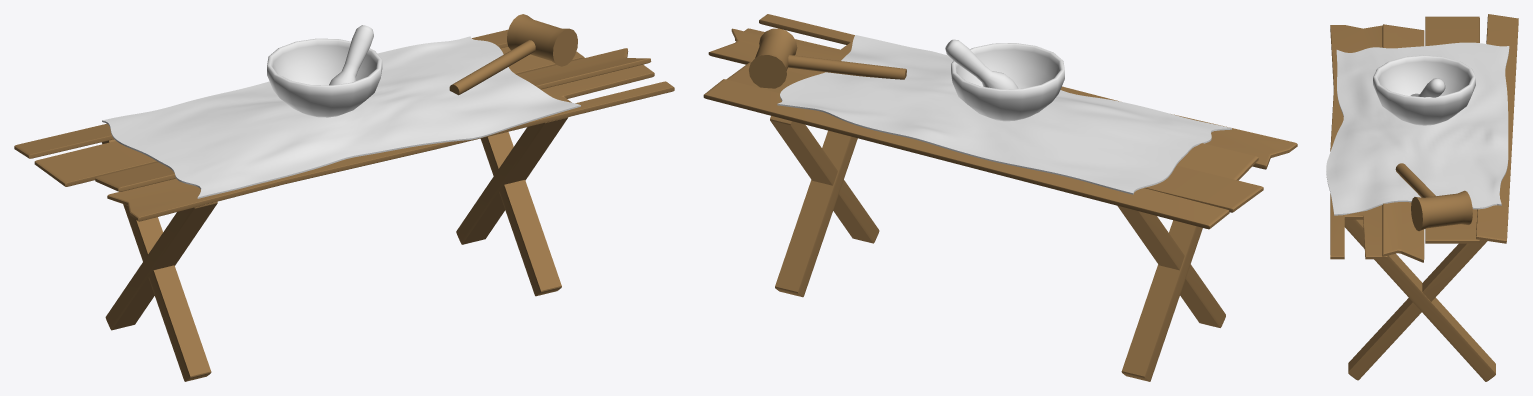
The model's file is Workbench2.fbx.
3 views of the same model, side by side, from view 1: azimuth 30°, elevation 25°; view 2: azimuth 150°, elevation 25°; view 3: azimuth 270°, elevation 25° (orthographic). The views are drawn at different scales.
Visible parts, largest first — view 1: Plane.053, Plane.047, Cylinder.004, Plane.049, Plane.051, Plane.048, Plane.050, Plane.045, Plane.046, Cylinder.002, Plane.044, Cylinder.003 (+1 smaller); view 2: Plane.053, Plane.044, Cylinder.004, Plane.050, Plane.048, Plane.047, Plane.046, Plane.051, Plane.045, Plane.049, Cylinder.002, Cylinder.003 (+1 smaller); view 3: Plane.053, Cylinder.004, Plane.047, Plane.050, Plane.051, Plane.044, Plane.046, Plane.045, Cylinder.002, Cylinder.003, Cylinder.005.
Boxes of the visible parts, <box> form: Plane.053: <box>102,36,580,198</box>; Plane.047: <box>107,64,674,221</box>; Cylinder.004: <box>267,38,382,117</box>; Plane.049: <box>102,139,211,381</box>; Plane.051: <box>480,131,561,296</box>; Plane.048: <box>105,201,217,330</box>; Plane.050: <box>456,117,568,244</box>; Plane.045: <box>34,47,584,186</box>; Plane.046: <box>95,48,651,191</box>; Cylinder.002: <box>507,14,577,66</box>; Plane.044: <box>14,29,508,158</box>; Cylinder.003: <box>449,40,535,95</box>; Plane.053: <box>777,35,1231,194</box>; Plane.044: <box>703,79,1229,229</box>; Cylinder.004: <box>951,43,1064,121</box>; Plane.050: <box>775,130,857,297</box>; Plane.048: <box>1121,220,1202,381</box>; Plane.047: <box>735,14,1297,169</box>; Plane.046: <box>708,28,1258,180</box>; Plane.051: <box>770,116,879,243</box>; Plane.045: <box>726,62,1263,212</box>; Plane.049: <box>1117,206,1225,327</box>; Cylinder.002: <box>749,28,797,88</box>; Cylinder.003: <box>788,55,906,79</box>; Plane.053: <box>1326,42,1509,215</box>; Cylinder.004: <box>1373,55,1475,125</box>; Plane.047: <box>1330,25,1387,259</box>; Plane.050: <box>1344,219,1495,381</box>; Plane.051: <box>1348,240,1487,380</box>; Plane.044: <box>1476,14,1518,243</box>; Plane.046: <box>1382,24,1424,262</box>; Plane.045: <box>1425,16,1479,243</box>; Cylinder.002: <box>1411,190,1472,231</box>; Cylinder.003: <box>1395,163,1435,197</box>; Cylinder.005: <box>1410,78,1445,97</box>.
Size of the model in its own units: 692 by 317 by 232.
